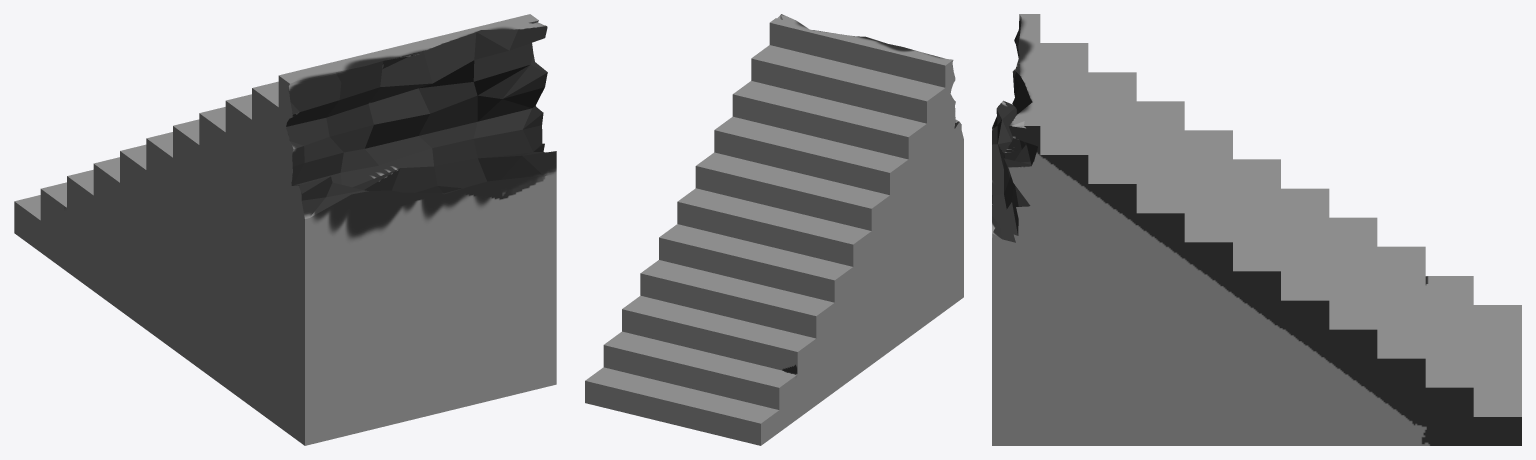
Rendered from merdiven_revize.fbx.
3 renders of one model, left to right at view 1: azimuth 30°, elevation 25°; view 2: azimuth 150°, elevation 25°; view 3: azimuth 270°, elevation 25°, orthographic. The views are drawn at different scales.
Parts seen in each view (by area): view 1: Stairs_0_35___1_.002; view 2: Stairs_0_35___1_.002; view 3: Stairs_0_35___1_.002.
Part boxes in pixels (left/top/right/bottom): Stairs_0_35___1_.002: left=14, top=14, right=556, bottom=445; Stairs_0_35___1_.002: left=585, top=14, right=963, bottom=445; Stairs_0_35___1_.002: left=992, top=14, right=1521, bottom=445.
Size of the model in its own units: 3 by 4 by 6.
Materials: 1 (1 with a texture image).
